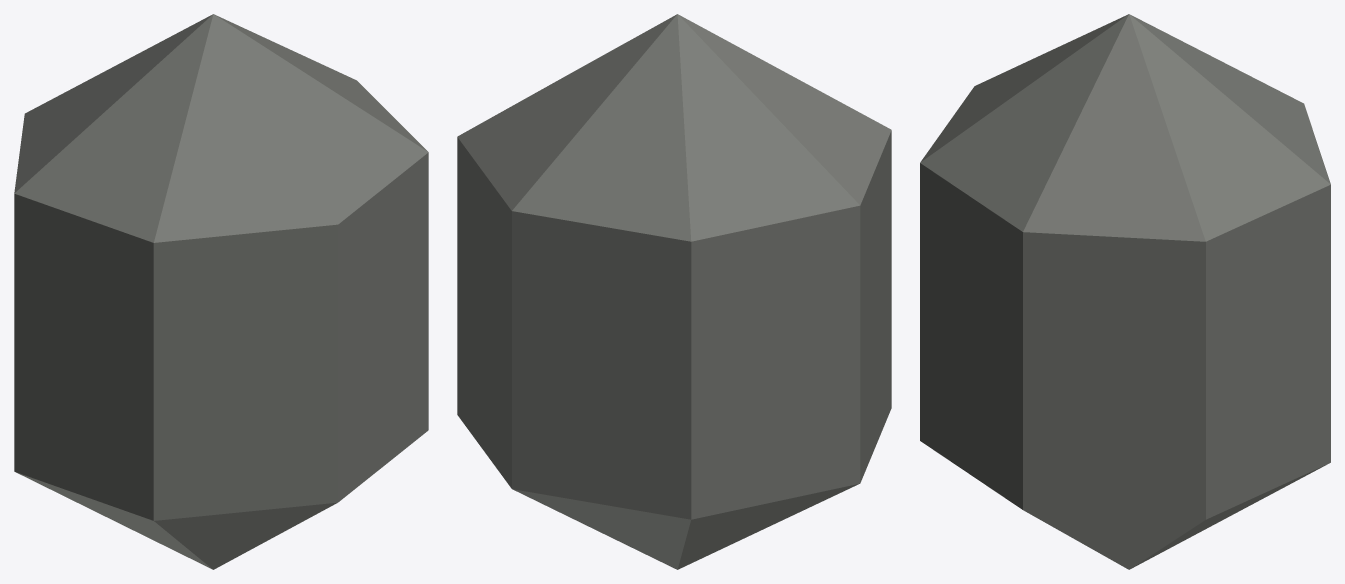
Rendered from rock_02.obj.
3 renders of one model, left to right at view 1: azimuth 30°, elevation 25°; view 2: azimuth 150°, elevation 25°; view 3: azimuth 270°, elevation 25°, orthographic.
Bounding box in the file's own units: 0.867 × 1.24 × 0.8274.
Materials: 1 (1 with a texture image).
